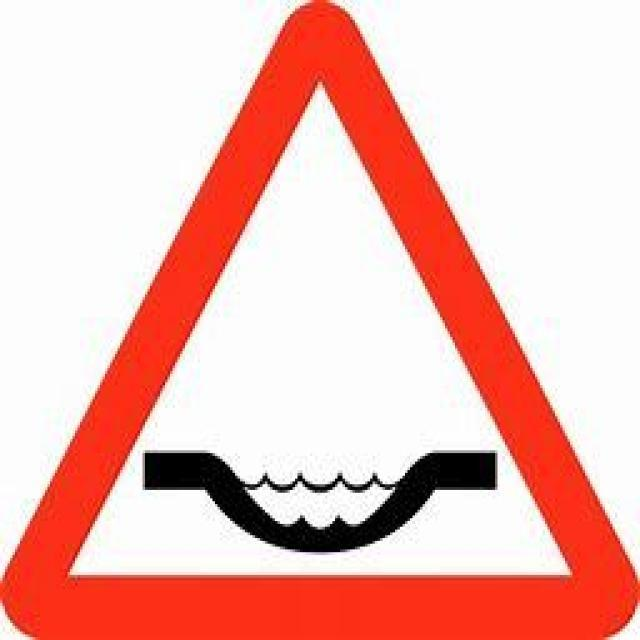dangerous dip: (11, 17, 625, 624)
